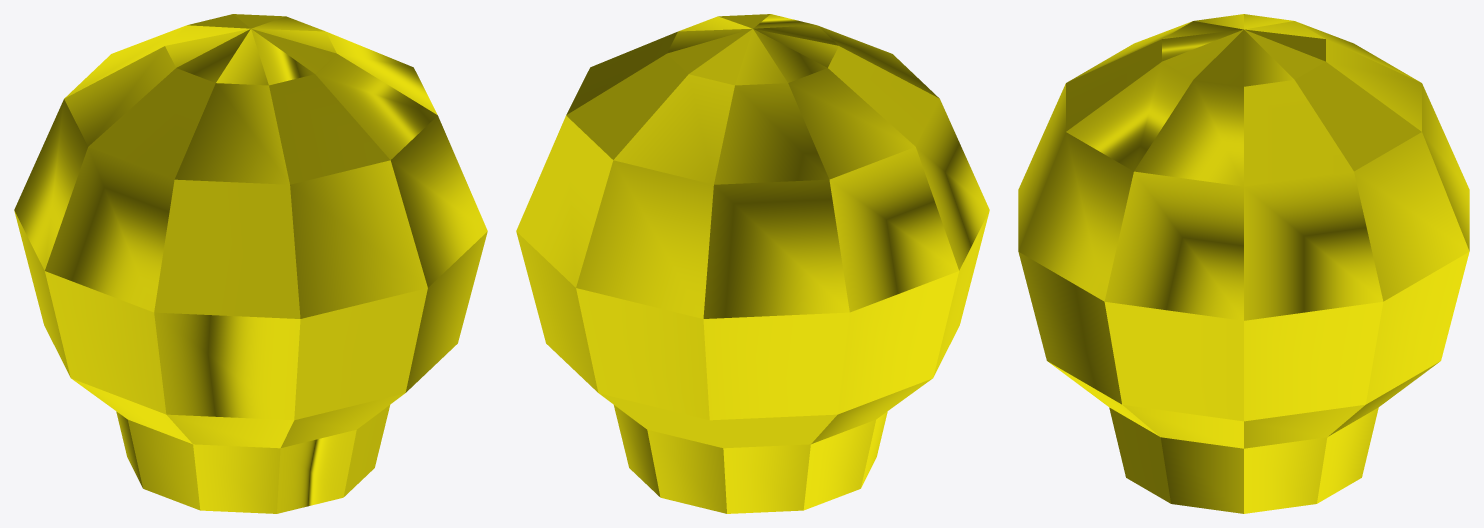
The model's file is lamp.fbx.
3 renders of one model, left to right at view 1: azimuth 30°, elevation 25°; view 2: azimuth 150°, elevation 25°; view 3: azimuth 270°, elevation 25°, orthographic.
Parts seen in each view (by area): view 1: glass; view 2: glass; view 3: glass.
Boxes of the visible parts, bbox=[...] form: glass: bbox=[14, 14, 487, 513]; glass: bbox=[516, 14, 989, 513]; glass: bbox=[1018, 14, 1469, 513].
Size of the model in its own units: 13.92 by 13.99 by 13.24.
